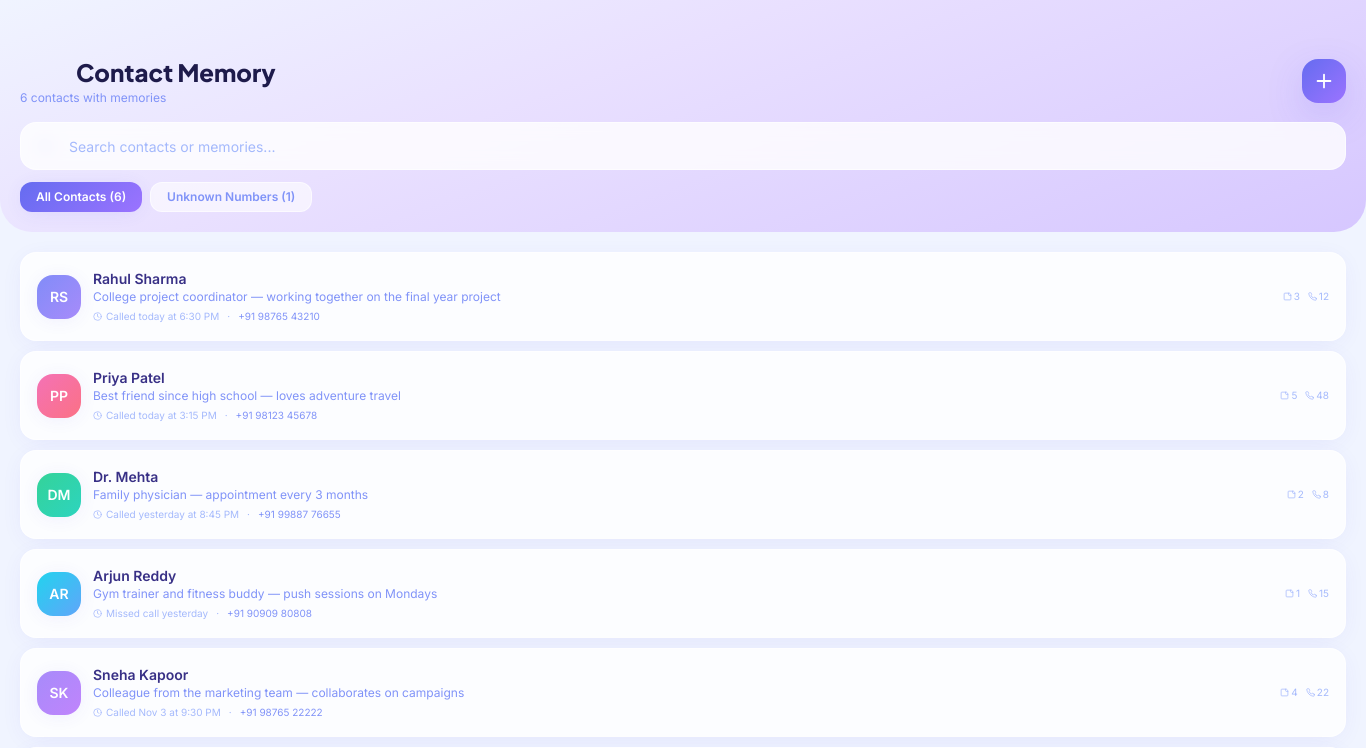
Test: ContactsScreen › opens Add Contact Memory modal on + click
Click the button named "Add new contact": (1324, 81) [1302, 59, 1346, 103]
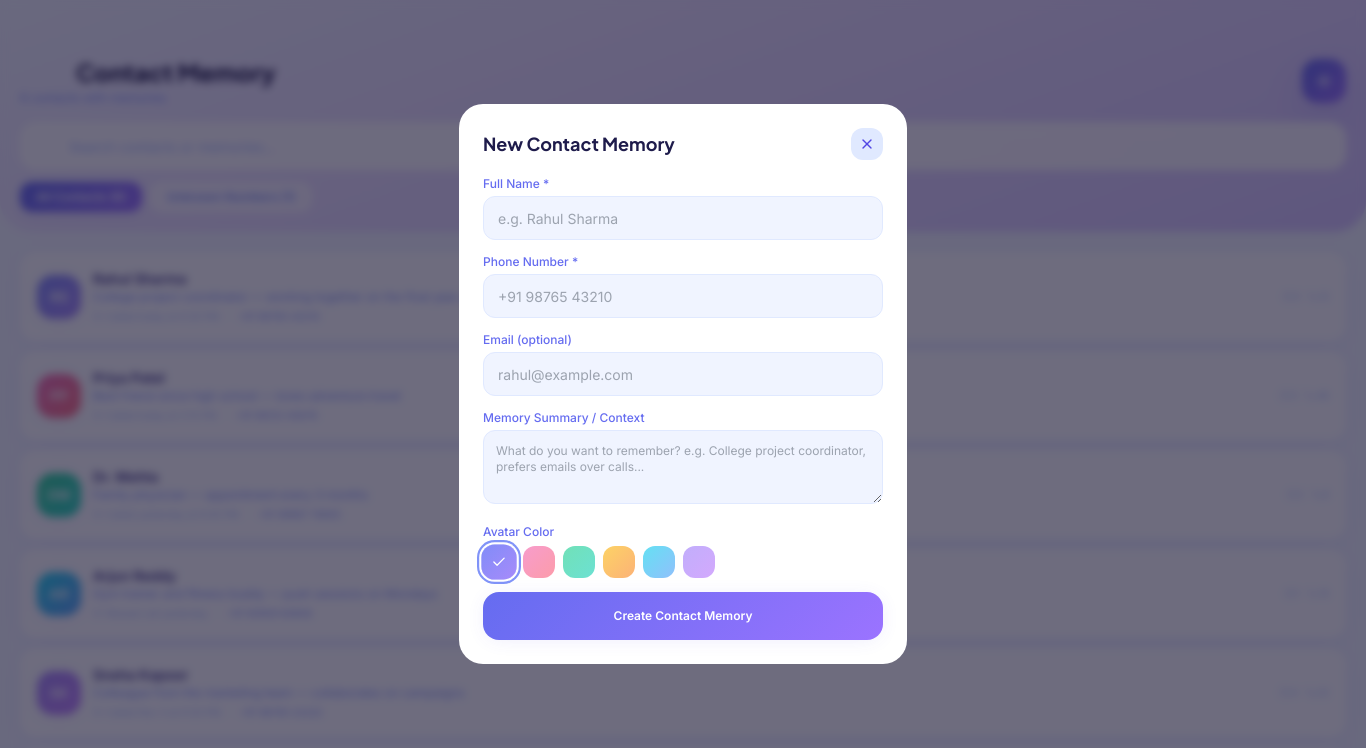
Expected: the heading "New Contact Memory" is shown, [483, 130, 675, 158]
Expected: the field with placeholder "e.g. Rahul Sharma" is shown, [483, 196, 883, 240]
